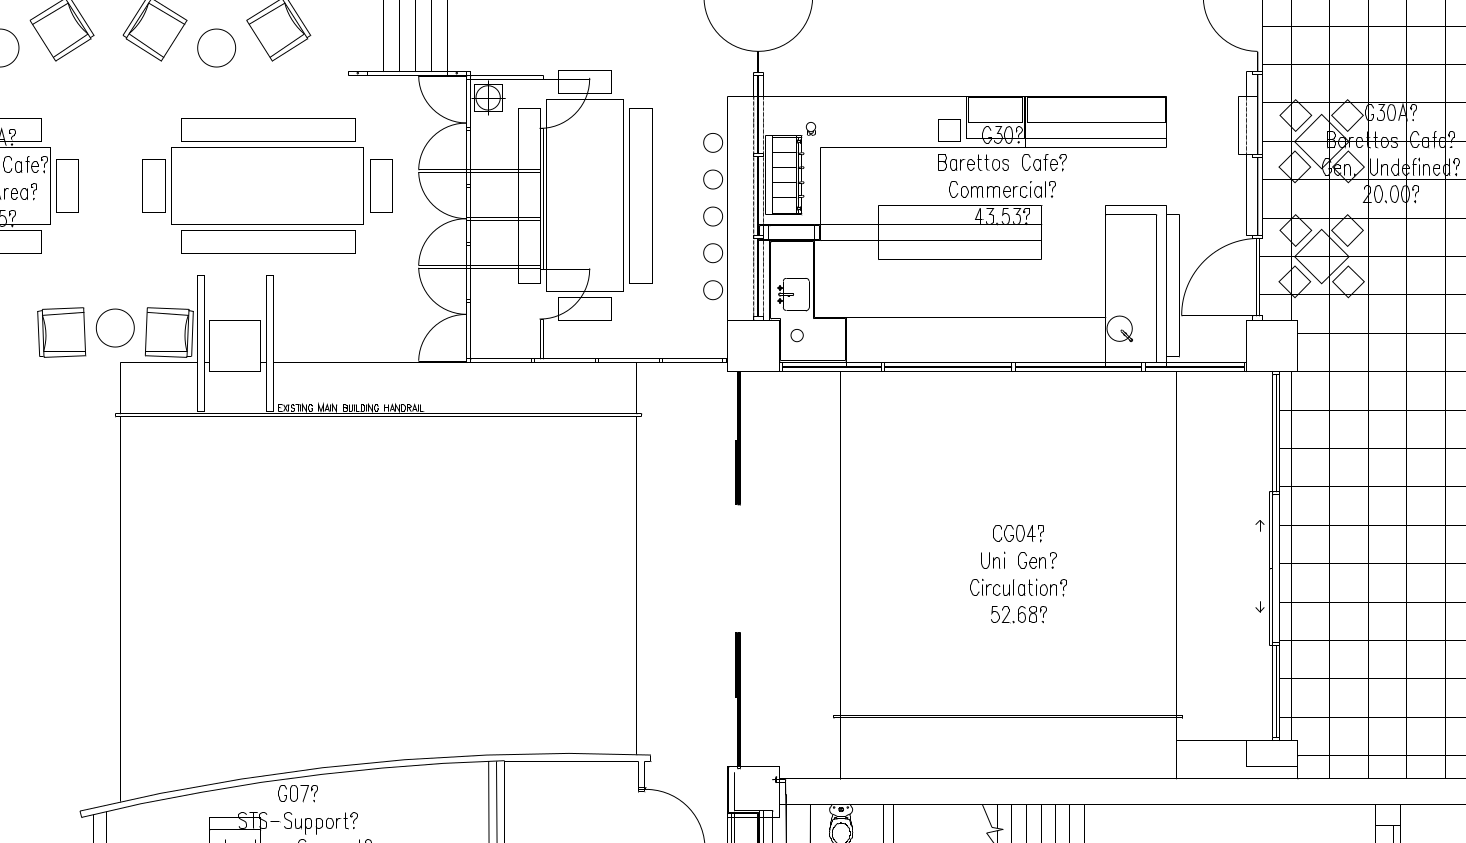door: (1178, 236, 1255, 323), (409, 75, 466, 170), (405, 170, 462, 265), (404, 265, 461, 360), (643, 781, 709, 843)
